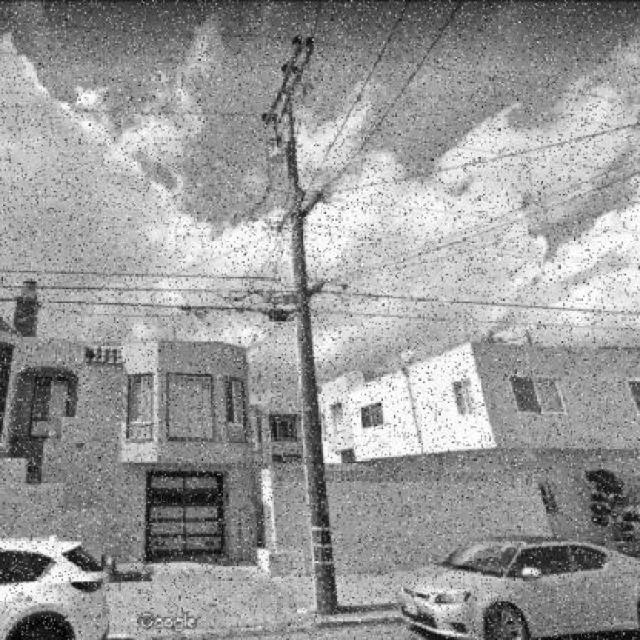light_pole: (238, 16, 386, 622)
